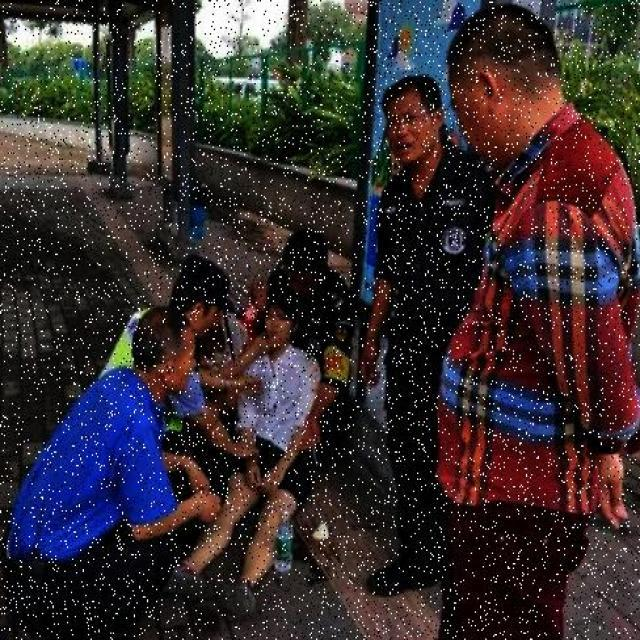fall: (218, 306, 310, 590)
